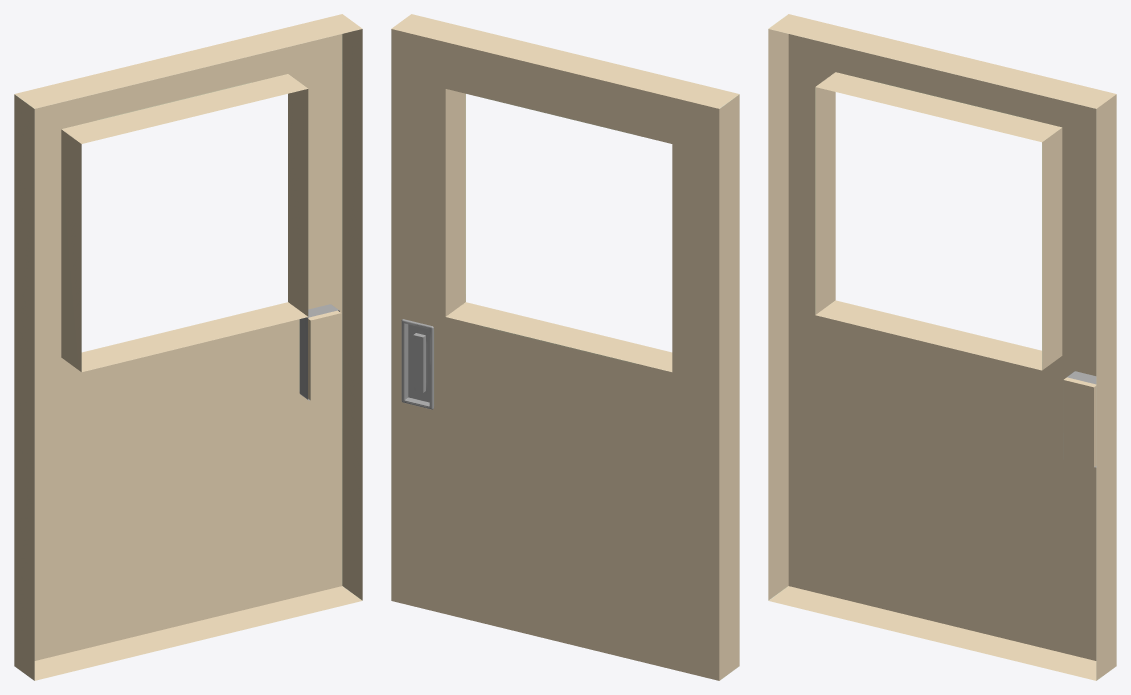
File: Door1.fbx
3 views of the same model, side by side, from view 1: azimuth 30°, elevation 25°; view 2: azimuth 150°, elevation 25°; view 3: azimuth 330°, elevation 25° (orthographic).
Visible parts, largest first — view 1: PUERTA_4, GRIPPUERTA3; view 2: PUERTA_4, GRIPPUERTA3; view 3: PUERTA_4.
Boxes of the visible parts, <box> form: PUERTA_4: <box>14,14,362,680</box>; GRIPPUERTA3: <box>299,304,339,400</box>; PUERTA_4: <box>391,14,739,680</box>; GRIPPUERTA3: <box>401,319,433,409</box>; PUERTA_4: <box>768,14,1116,680</box>.
Size of the model in its own units: 120 by 200 by 13.49.
